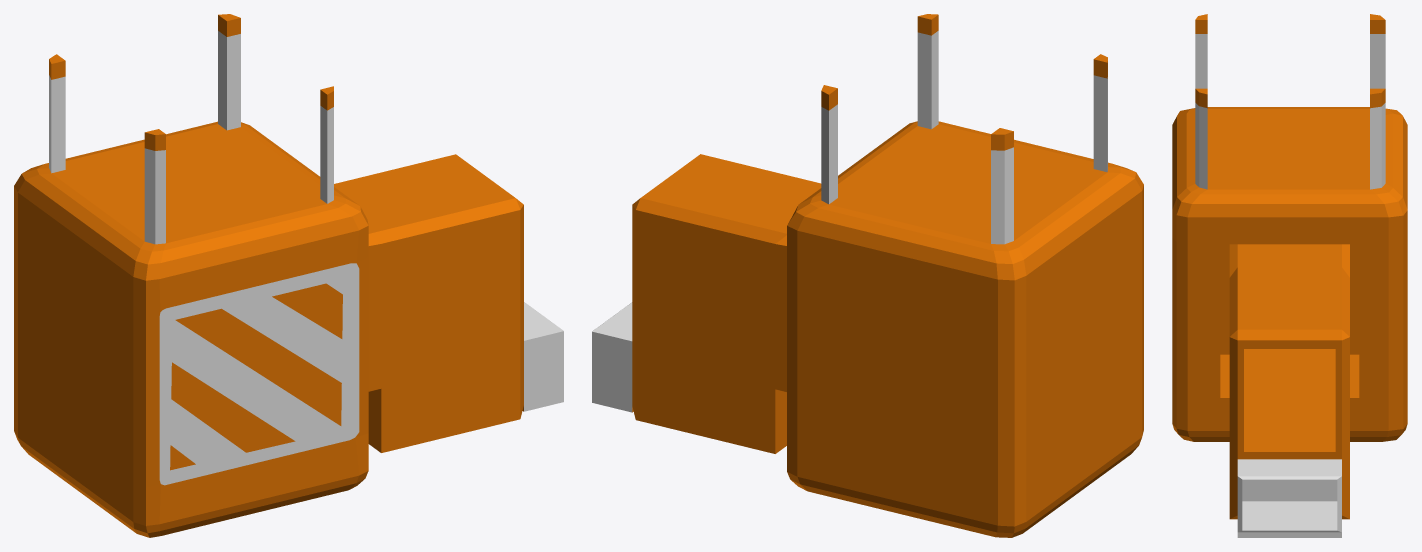
3 views of the same model, side by side, from view 1: azimuth 30°, elevation 25°; view 2: azimuth 150°, elevation 25°; view 3: azimuth 270°, elevation 25° (orthographic). The views are drawn at different scales.
Visible parts, largest first — view 1: Cube; view 2: Cube; view 3: Cube.
Boxes of the visible parts, x1,y1,x2,y2 form: Cube: [14, 14, 563, 537]; Cube: [592, 14, 1143, 537]; Cube: [1172, 14, 1407, 537].
Size of the model in its own units: 394 by 320 by 200.
